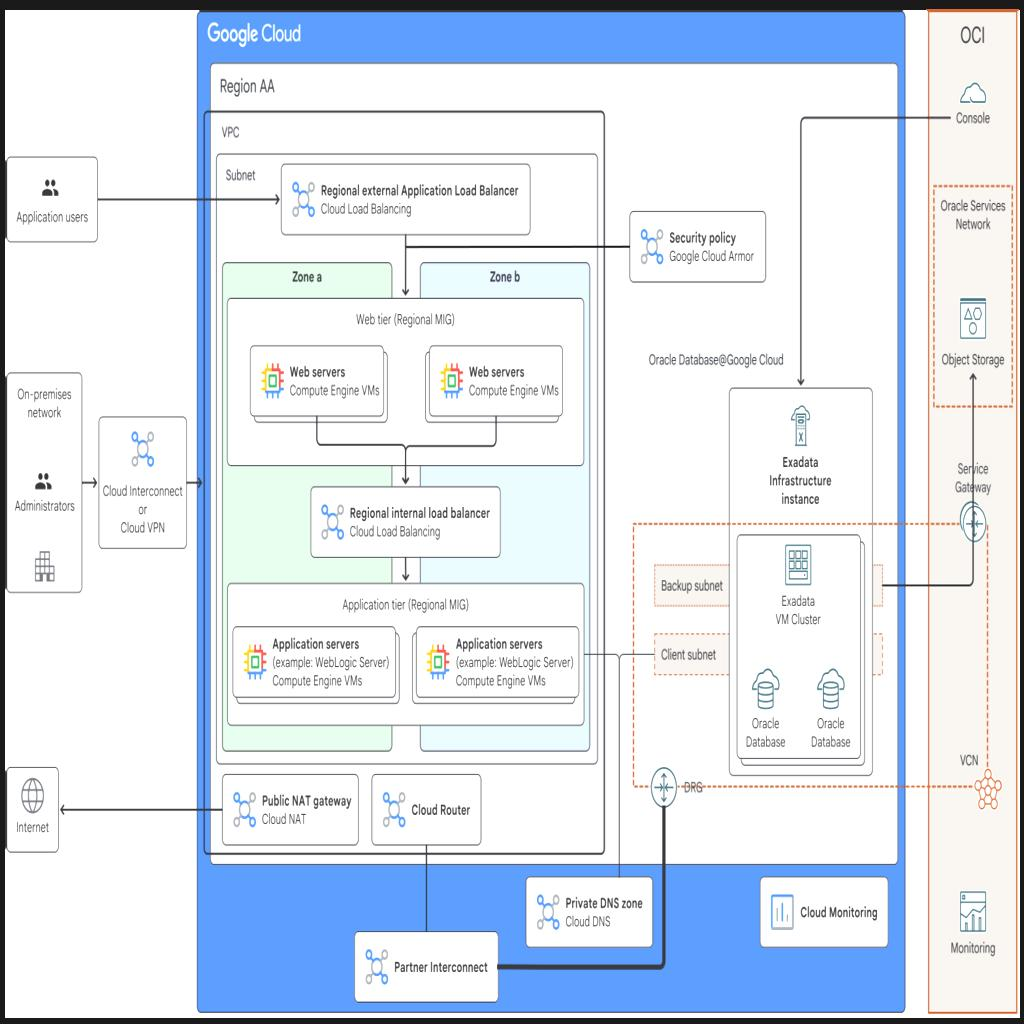actor: (3, 369, 85, 594), (7, 158, 97, 235), (5, 766, 58, 842)
api_gateway: (266, 158, 548, 235), (313, 484, 502, 550), (354, 931, 496, 998), (220, 776, 358, 842), (525, 872, 653, 940)
compute: (737, 532, 865, 768), (732, 389, 870, 512), (231, 625, 400, 702), (409, 625, 578, 702), (250, 342, 388, 420), (428, 342, 566, 420), (649, 766, 678, 807)
data_flow: (628, 116, 971, 120), (320, 448, 494, 453), (797, 118, 802, 292), (336, 699, 500, 704), (661, 728, 666, 886), (968, 520, 974, 648), (428, 962, 566, 967), (762, 781, 900, 786), (762, 518, 900, 522), (52, 194, 160, 199), (31, 802, 149, 806), (876, 581, 970, 586), (416, 656, 420, 748), (586, 814, 592, 870), (422, 816, 428, 867), (405, 235, 410, 281), (405, 418, 410, 459), (78, 461, 82, 502), (405, 538, 410, 568), (316, 412, 321, 428), (494, 412, 499, 428)
database_storage: (944, 284, 998, 361)
network_security: (96, 422, 186, 540), (627, 207, 762, 274), (368, 776, 482, 842), (944, 80, 998, 156), (956, 760, 986, 801), (956, 500, 986, 540)
trust_boundary: (197, 5, 909, 1019), (210, 40, 604, 926), (218, 106, 597, 898), (927, 10, 1019, 1014), (224, 262, 392, 748), (422, 262, 590, 748), (228, 296, 586, 466), (228, 556, 586, 724), (728, 384, 874, 773), (733, 532, 866, 768), (929, 182, 1013, 408)
